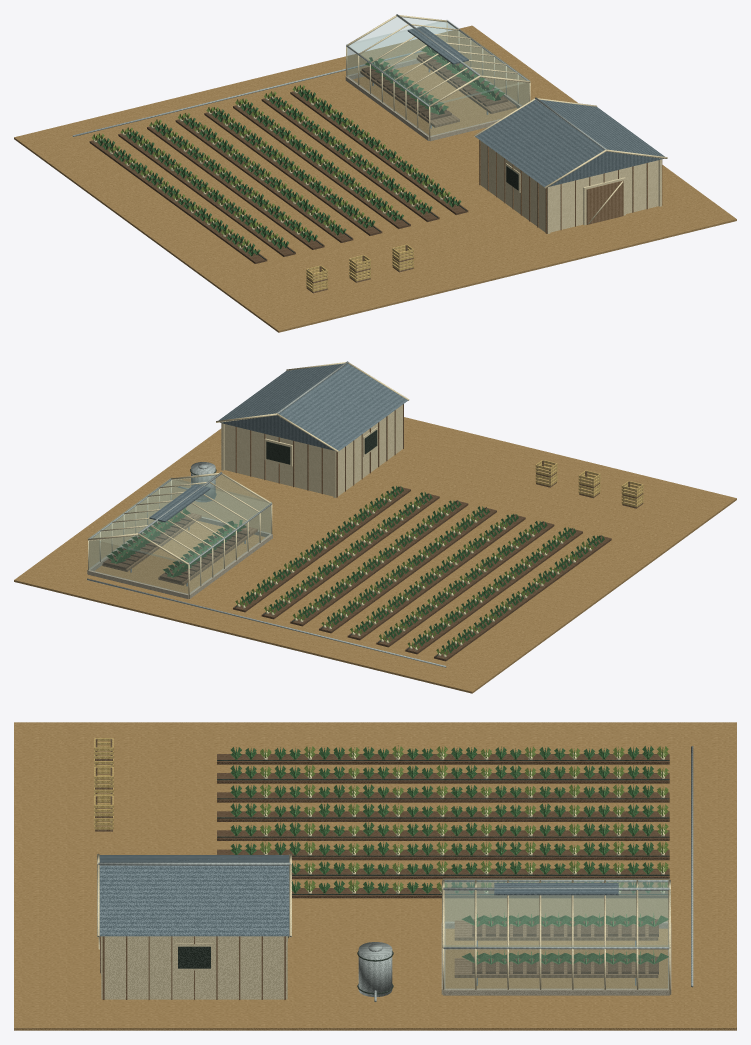
File: 275-blender.glb
3 views of the same model, one above another, from view 1: azimuth 30°, elevation 25°; view 2: azimuth 150°, elevation 25°; view 3: azimuth 270°, elevation 25° (orthographic). The views are drawn at different scales.
Visible parts, largest first — view 1: ag_market_garden earth, ag_market_garden soil, ag_market_garden glass, ag_market_garden leaf, ag_market_garden cream, ag_market_garden roof, ag_market_garden leaf_light, ag_market_garden wood, ag_market_garden metal, ag_market_garden hay, ag_market_garden concrete; view 2: ag_market_garden earth, ag_market_garden soil, ag_market_garden glass, ag_market_garden cream, ag_market_garden leaf, ag_market_garden roof, ag_market_garden leaf_light, ag_market_garden wood, ag_market_garden metal, ag_market_garden concrete, ag_market_garden hay, ag_market_garden dark; view 3: ag_market_garden earth, ag_market_garden soil, ag_market_garden glass, ag_market_garden leaf, ag_market_garden roof, ag_market_garden cream, ag_market_garden leaf_light, ag_market_garden dark, ag_market_garden wood, ag_market_garden metal, ag_market_garden concrete, ag_market_garden hay.
Boxes of the visible parts, <box> form: ag_market_garden earth: <box>14,25,736,332</box>; ag_market_garden soil: <box>89,53,508,263</box>; ag_market_garden glass: <box>346,17,529,136</box>; ag_market_garden leaf: <box>97,44,504,256</box>; ag_market_garden cream: <box>94,15,667,248</box>; ag_market_garden roof: <box>407,26,664,187</box>; ag_market_garden leaf_light: <box>92,85,450,247</box>; ag_market_garden wood: <box>306,57,662,293</box>; ag_market_garden metal: <box>72,14,606,149</box>; ag_market_garden hay: <box>306,244,413,291</box>; ag_market_garden concrete: <box>345,59,521,141</box>; ag_market_garden earth: <box>14,417,736,693</box>; ag_market_garden soil: <box>103,486,611,661</box>; ag_market_garden glass: <box>88,475,271,594</box>; ag_market_garden cream: <box>88,362,591,657</box>; ag_market_garden leaf: <box>107,486,604,652</box>; ag_market_garden roof: <box>149,363,407,522</box>; ag_market_garden leaf_light: <box>235,493,593,655</box>; ag_market_garden wood: <box>102,404,643,585</box>; ag_market_garden metal: <box>87,361,446,667</box>; ag_market_garden concrete: <box>87,516,272,598</box>; ag_market_garden hay: <box>535,460,643,506</box>; ag_market_garden dark: <box>190,430,601,656</box>; ag_market_garden earth: <box>14,722,736,1030</box>; ag_market_garden soil: <box>217,754,669,974</box>; ag_market_garden glass: <box>443,878,669,989</box>; ag_market_garden leaf: <box>230,746,668,964</box>; ag_market_garden roof: <box>99,855,618,936</box>; ag_market_garden cream: <box>97,752,670,999</box>; ag_market_garden leaf_light: <box>260,745,668,892</box>; ag_market_garden dark: <box>178,760,669,994</box>; ag_market_garden wood: <box>95,738,658,999</box>; ag_market_garden metal: <box>98,746,693,1001</box>; ag_market_garden concrete: <box>441,921,671,995</box>; ag_market_garden hay: <box>94,738,113,829</box>.
Size of what is drawn, in the model's own units: 31.95 by 4.92 by 31.95.
Materials: 12 (11 with a texture image).
